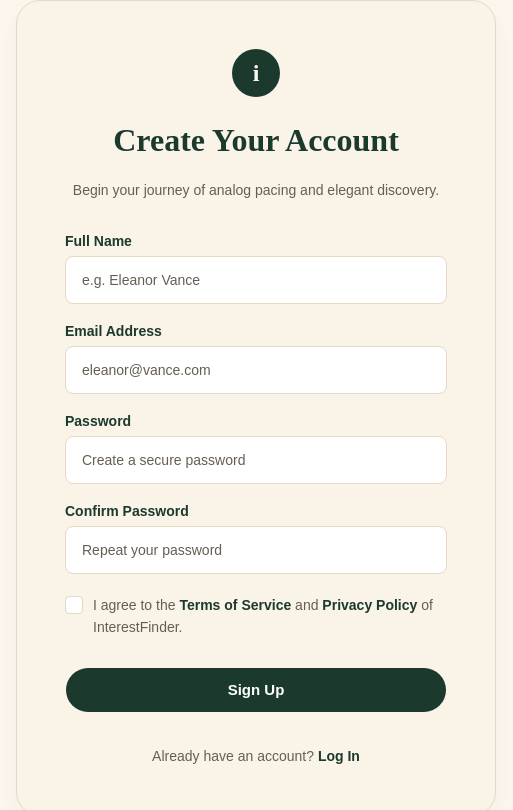
Scenario: registration form › shows duplicate account errors
Type "Reader Name" into the field labelled "Full Name" at {"x": 256, "y": 280}, box [65,256,447,304]
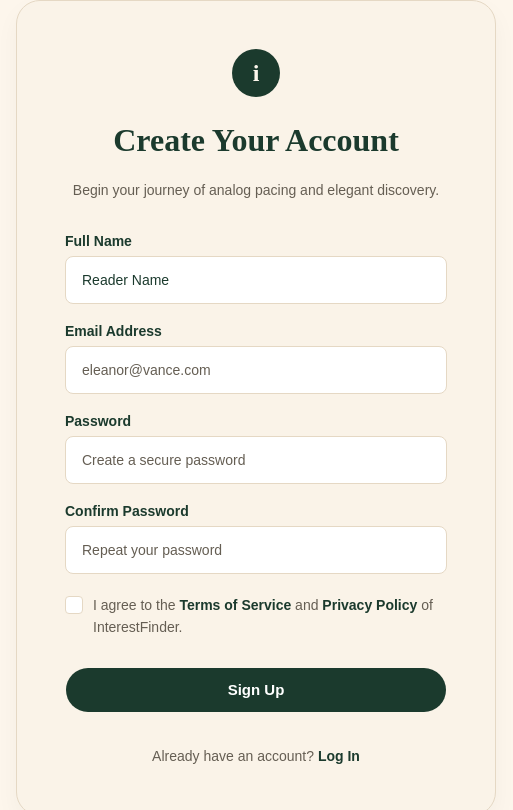
Type "reader@example.com" into the field labelled "Email Address" at {"x": 256, "y": 370}, box [65,346,447,394]
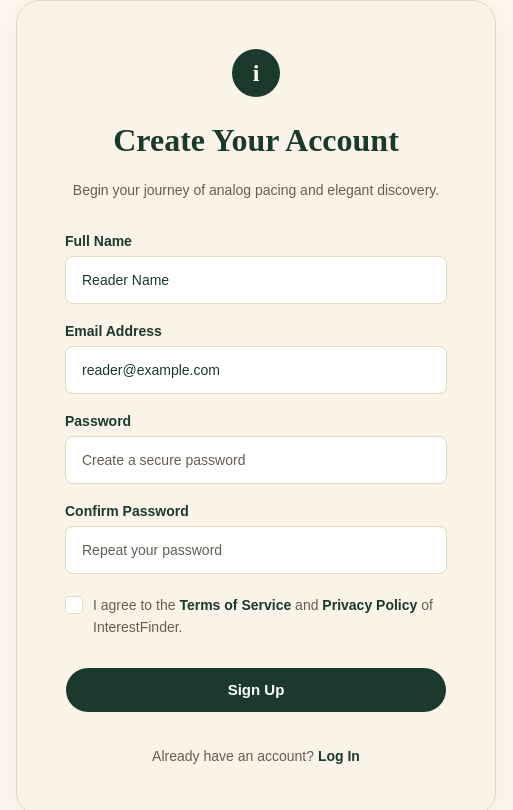
Type "valid-password" into the password field labelled "Password" at {"x": 256, "y": 460}, box [65,436,447,484]
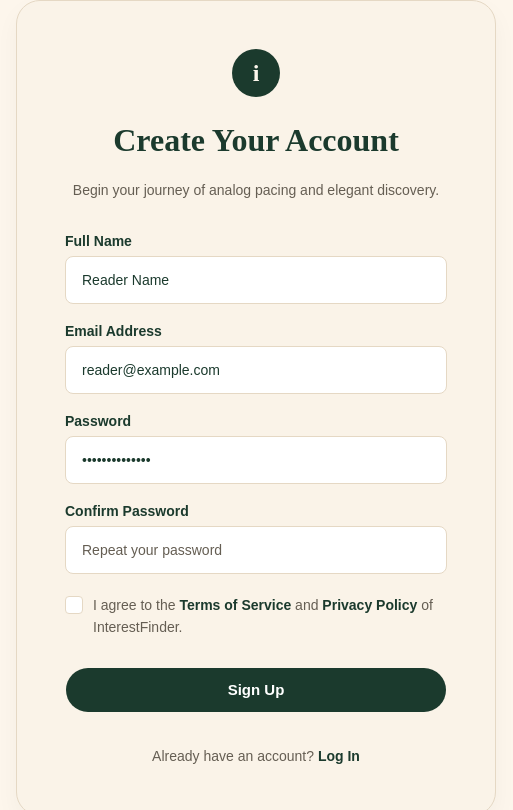
Type "valid-password" into the password field labelled "Confirm Password" at {"x": 256, "y": 550}, box [65,526,447,574]
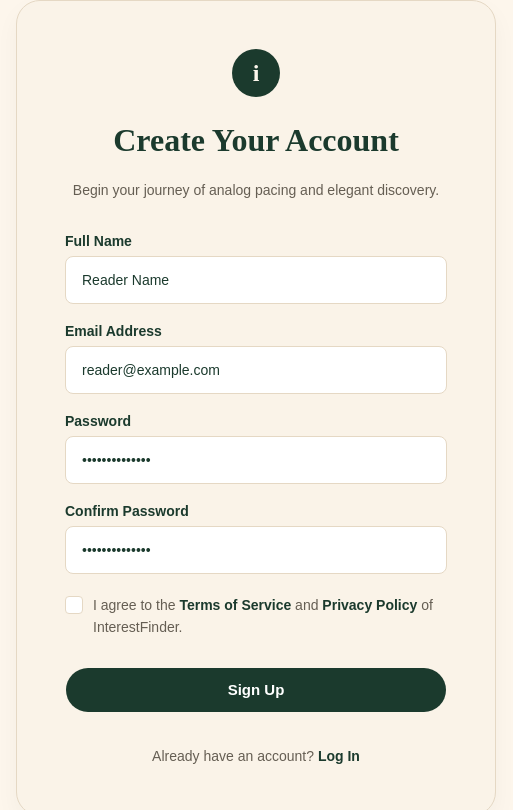
Click the checkbox named "I agree" at {"x": 74, "y": 605}, box [65,596,83,614]
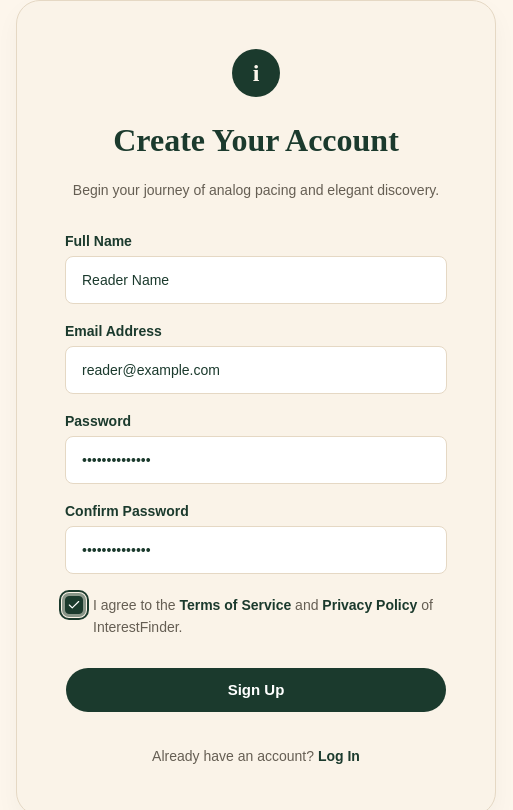
Click the button "Sign Up" at {"x": 256, "y": 690}, box [65,667,447,713]
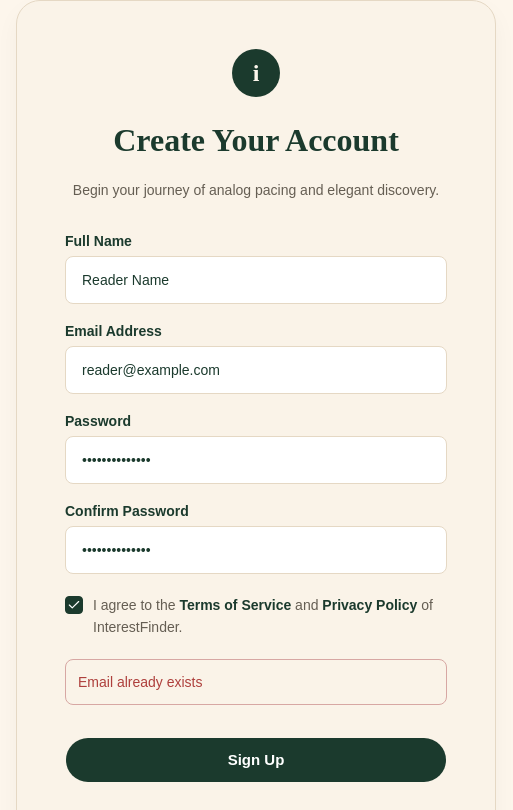
Expected: the message reads "Email already exists", [78,674,202,690]
